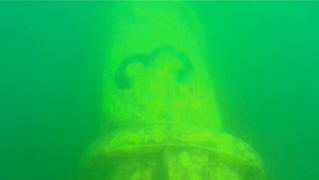3: (114, 46, 195, 90)
pipe: (79, 1, 265, 179)
